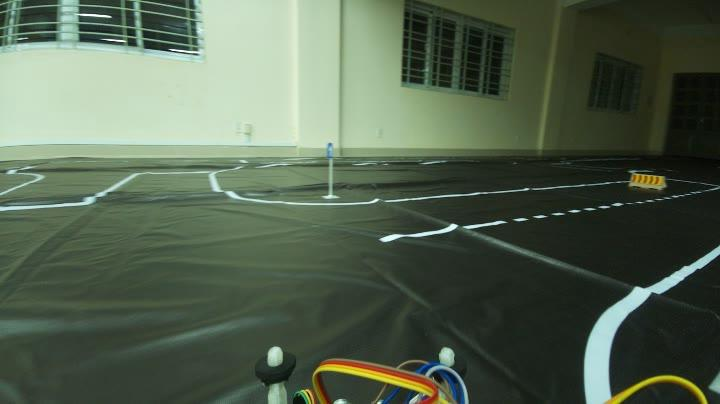onewayroad: (322, 140, 336, 156)
